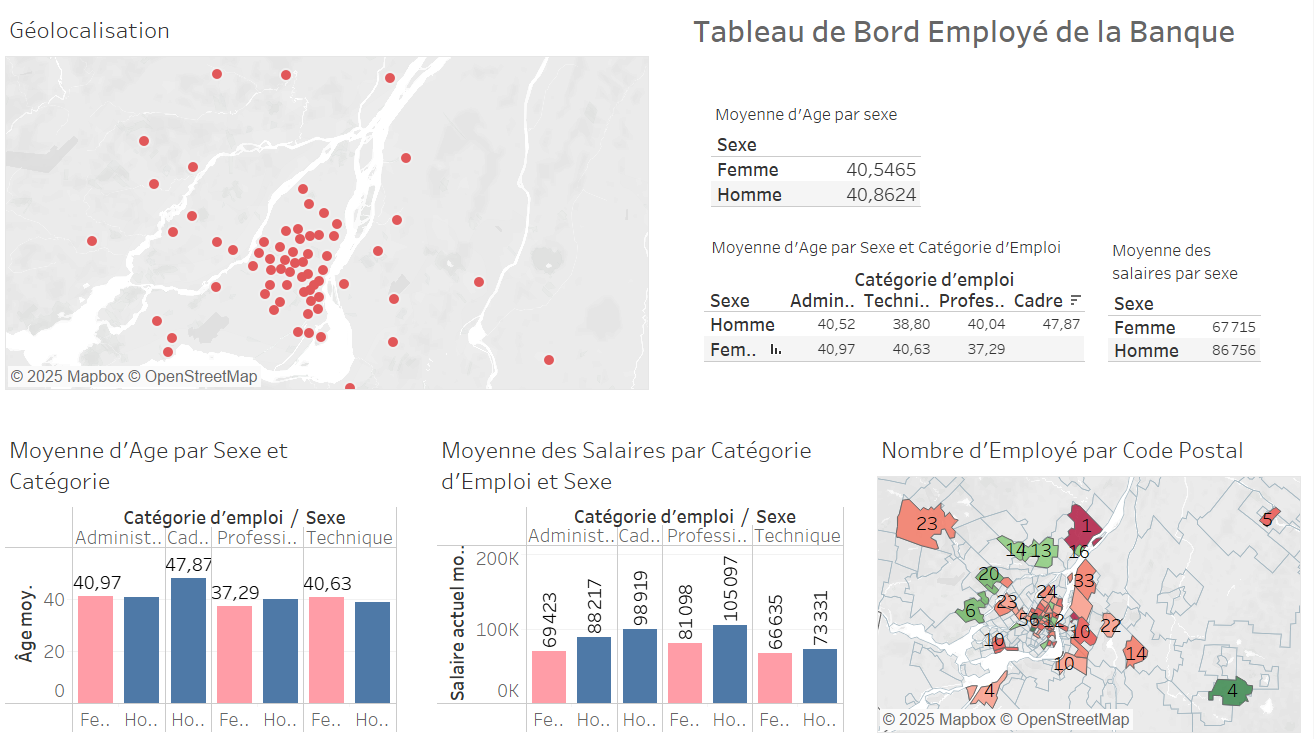

The dashboard page shown, as its layout file describes it:
{"tool":"tableau","page":{"name":"Tableau de bord 1","canvas":[1000,1000],"units":"permille","ordinal":0},"visuals":[{"type":"worksheet","title":"Géolocalisation_p","mark":"Automatic","box":[6.1,10.7,493.9,519.4]},{"type":"blank","box":[500,10.7,24.2,519.4]},{"type":"text","box":[527.3,14.7,415.9,54.9]},{"type":"worksheet","title":"Tableau Moyenne d'Age","mark":"Automatic","rows":["Sexe"],"box":[541.7,105.8,170.5,149.9]},{"type":"worksheet","title":" Moyenne des Salaires par Sexe et Catégorie d'Emploi","mark":"Automatic","rows":["Sexe"],"cols":["Catégorie d'emploi"],"box":[538.6,281.1,293.2,214.2]},{"type":"worksheet","title":"Feuille 16","mark":"Automatic","rows":["Sexe"],"box":[844.7,315.9,125,172.7]},{"type":"blank","box":[6.1,530.1,987.9,42.8]},{"type":"worksheet","title":"Moyenne d'Age par Sexe (4)","mark":"Automatic","rows":["Âge"],"cols":["Catégorie d'emploi","Sexe"],"box":[6.1,573,303,416.3]},{"type":"blank","box":[309.1,573,24.2,416.3]},{"type":"worksheet","title":"Moyenne des Salaires par Catégorie d'Emploi et Sexe","mark":"Automatic","rows":["Salaire actuel"],"cols":["Catégorie d'emploi","Sexe"],"box":[333.3,573,314.2,416.3]},{"type":"blank","box":[647.6,573,19.1,416.3]},{"type":"worksheet","title":"Géolocalisation","mark":"Multipolygon","box":[666.7,573,327.3,416.3]}]}

Visuals, with their boxes on the dashboard's canvas, which has no fixed pixel size, in thousandths of its width and height (x1, y1, x2, y2). These are canvas units, not pixel positions in the 1314x739 screenshot, which may show the page scaled, cropped or inside an application window:
"Géolocalisation_p" worksheet: locate(6, 11, 500, 530)
blank: locate(500, 11, 524, 530)
text: locate(527, 15, 943, 70)
"Tableau Moyenne d'Age" worksheet: locate(542, 106, 712, 256)
" Moyenne des Salaires par Sexe et Catégorie d'Emploi" worksheet: locate(539, 281, 832, 495)
"Feuille 16" worksheet: locate(845, 316, 970, 489)
blank: locate(6, 530, 994, 573)
"Moyenne d'Age par Sexe (4)" worksheet: locate(6, 573, 309, 989)
blank: locate(309, 573, 333, 989)
"Moyenne des Salaires par Catégorie d'Emploi et Sexe" worksheet: locate(333, 573, 648, 989)
blank: locate(648, 573, 667, 989)
"Géolocalisation" worksheet (Multipolygon marks): locate(667, 573, 994, 989)
